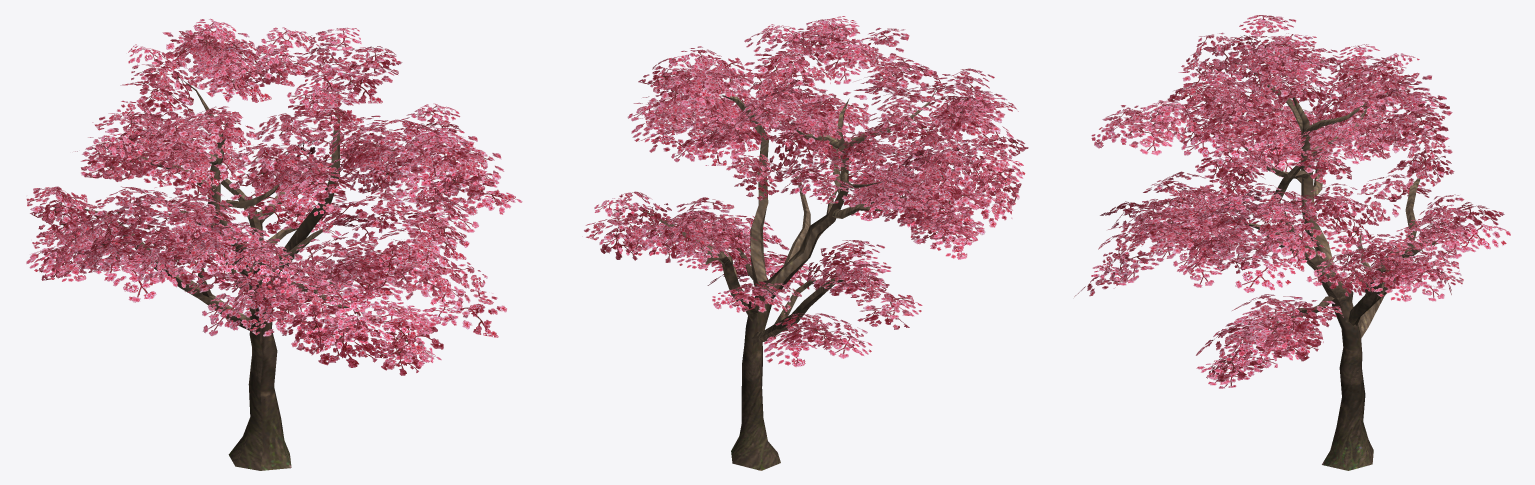
Rendered from jd_taohua_3.FBX.
3 renders of one model, left to right at view 1: azimuth 30°, elevation 25°; view 2: azimuth 150°, elevation 25°; view 3: azimuth 270°, elevation 25°, orthographic. The views are drawn at different scales.
Visible parts, largest first — view 1: jd_taohua_4; view 2: jd_taohua_4; view 3: jd_taohua_4.
Part boxes in pixels (x1=…): jd_taohua_4: x1=26, y1=18, x2=522, y2=470; jd_taohua_4: x1=582, y1=16, x2=1028, y2=470; jd_taohua_4: x1=1074, y1=15, x2=1510, y2=470.
Size of the model in its own units: 453 by 453 by 467.
